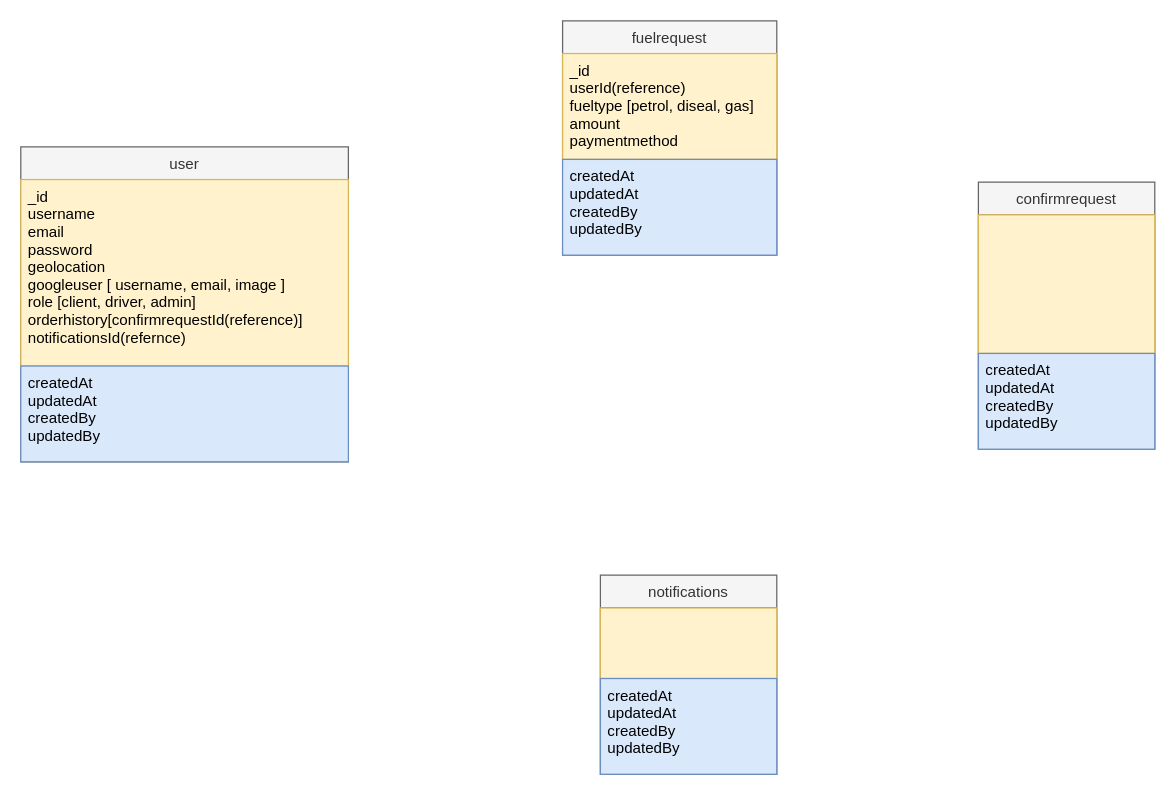
The diagram is 1176 pixels wide and 795 high, and some of its shapes have lost their labels. Here are the shapes that lost their labels. From the top down, the centre of each, then its label:
At point (1066, 283): "_id userId(reference) fuelrequestId(reference) distance time amount".
At point (688, 643): "_id notificationname descritption".
